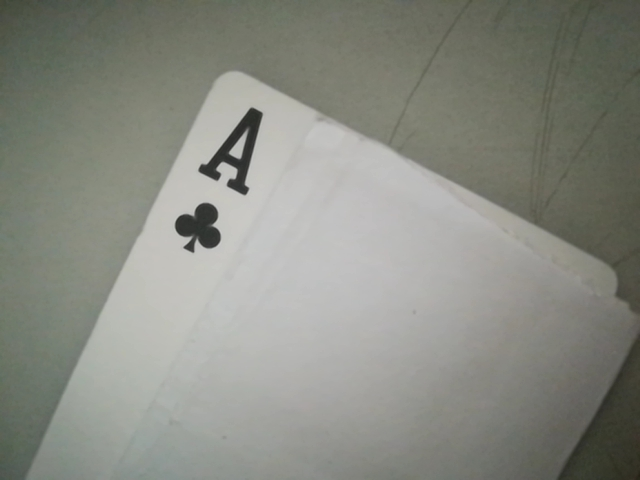mh a: (164, 98, 281, 261)
